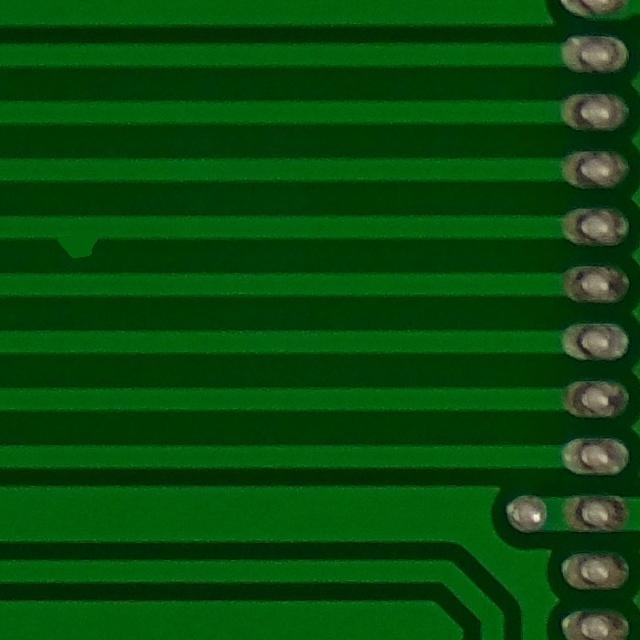spur: (27, 202, 116, 273)
